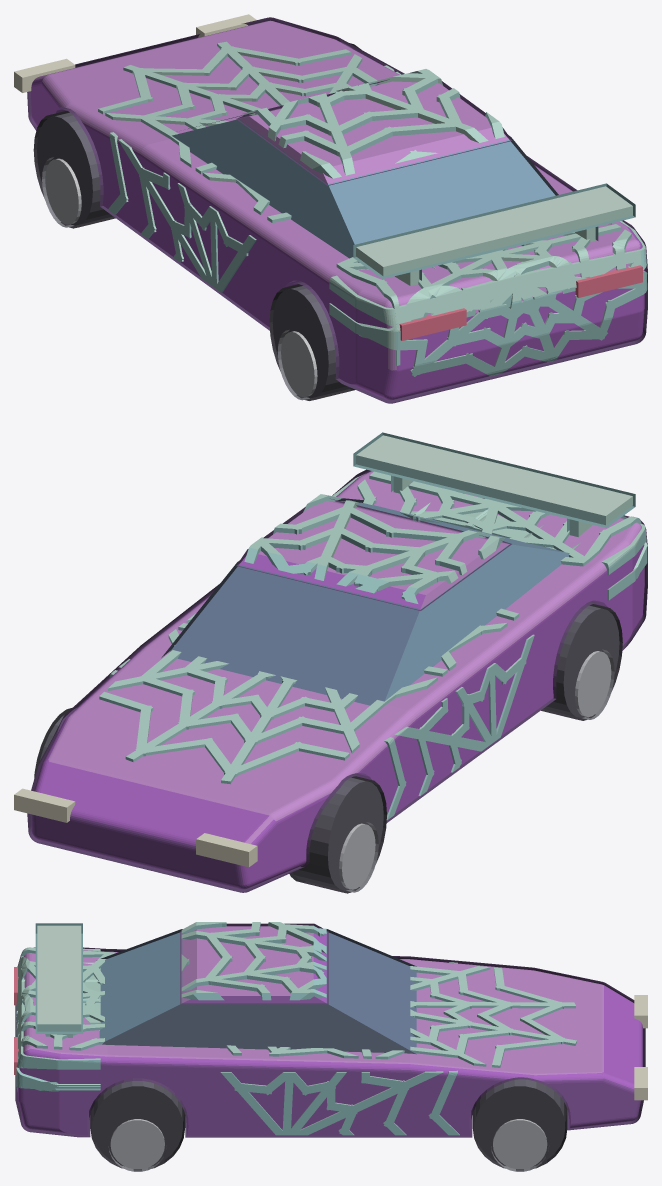
File: car_stinger_5.glb
3 renders of one model, top to bottom at view 1: azimuth 30°, elevation 25°; view 2: azimuth 150°, elevation 25°; view 3: azimuth 270°, elevation 25°, orthographic. The views are drawn at different scales.
Parts seen in each view (by area): view 1: car; view 2: car; view 3: car.
Part boxes in pixels (bbox=[...]): car: bbox=[14, 14, 647, 403]; car: bbox=[14, 432, 647, 893]; car: bbox=[14, 922, 647, 1171].
Bounding box in the file's own units: 2.05 × 1.24 × 4.61.
